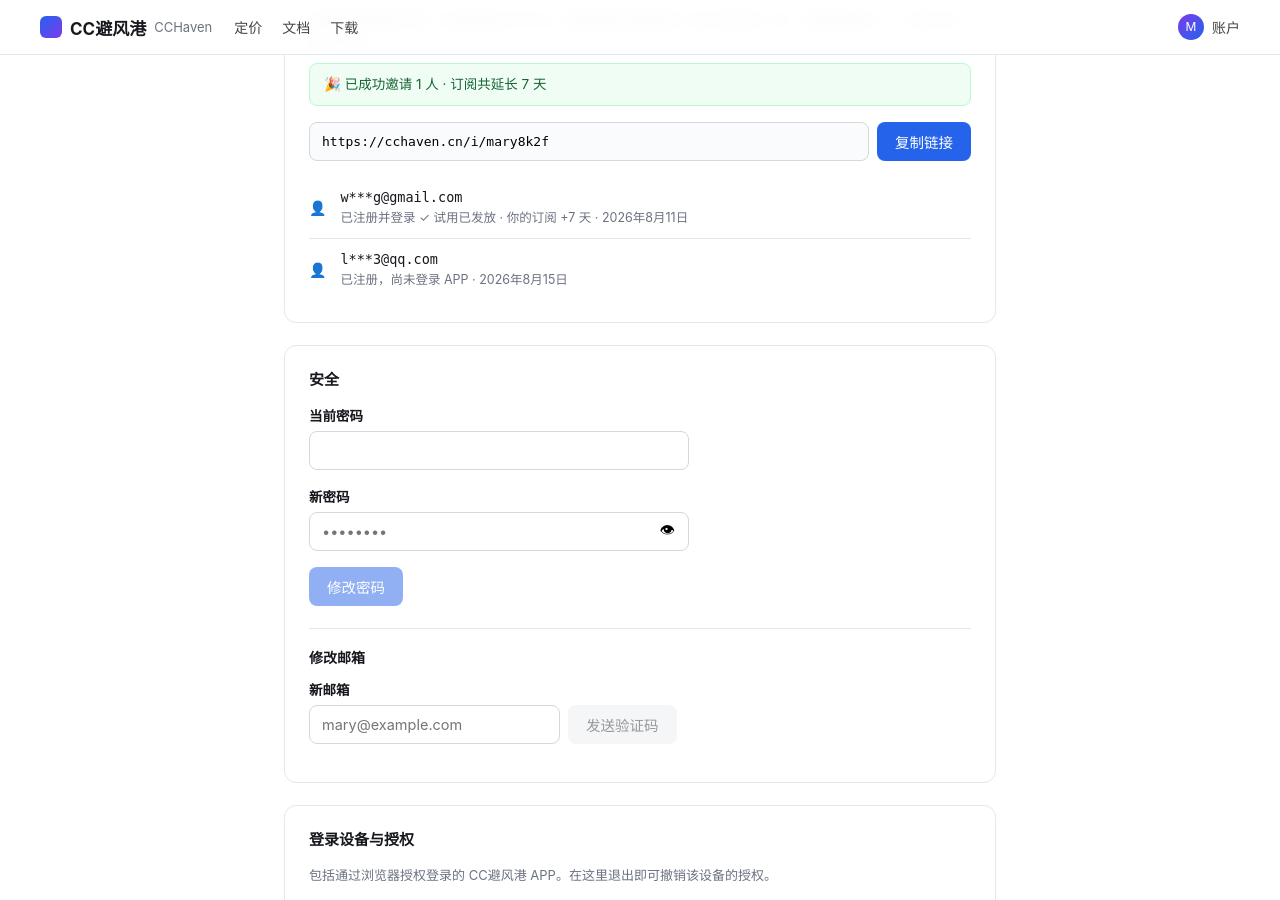
Test: 账户中心 /account › 已登录 › 安全 › 当前密码错误时展示服务端文案
(page scrolled)
Type "WrongPassword1" into the password field labelled "当前密码" at (499, 450), box [309, 431, 689, 470]
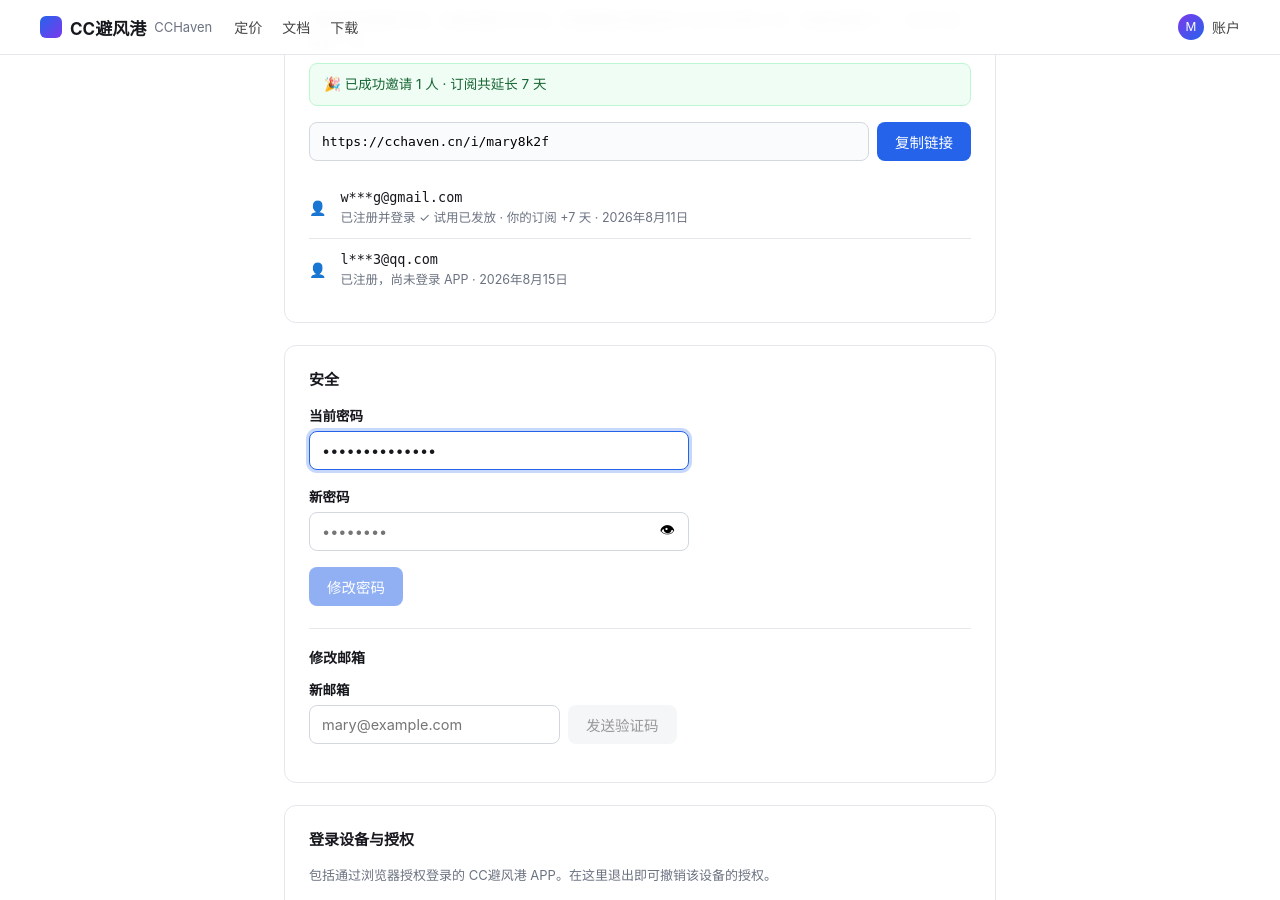
Type "Password456" into the password field labelled "新密码" at (499, 531), box [309, 512, 689, 551]
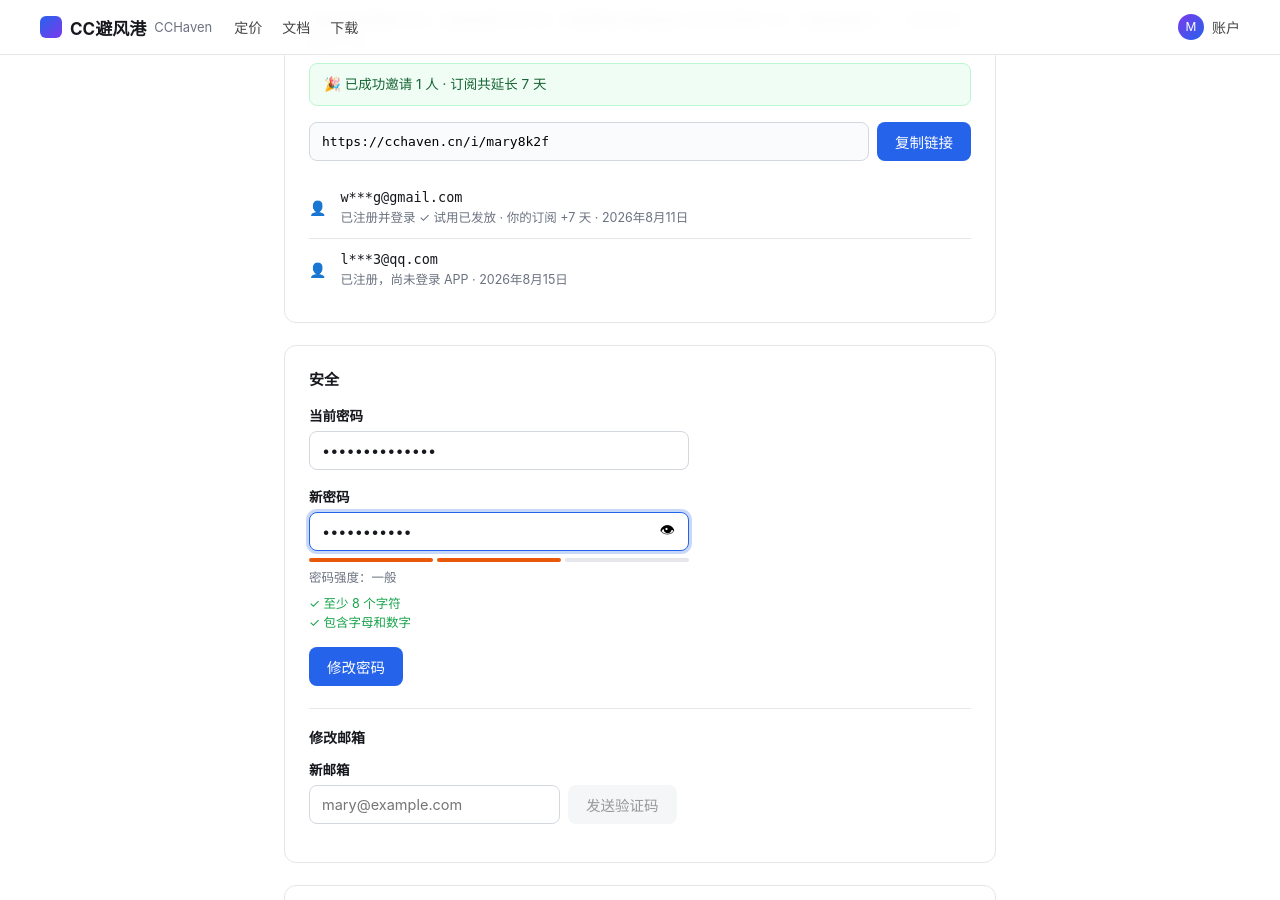
Click the button "修改密码" at (356, 666), box [309, 647, 403, 686]
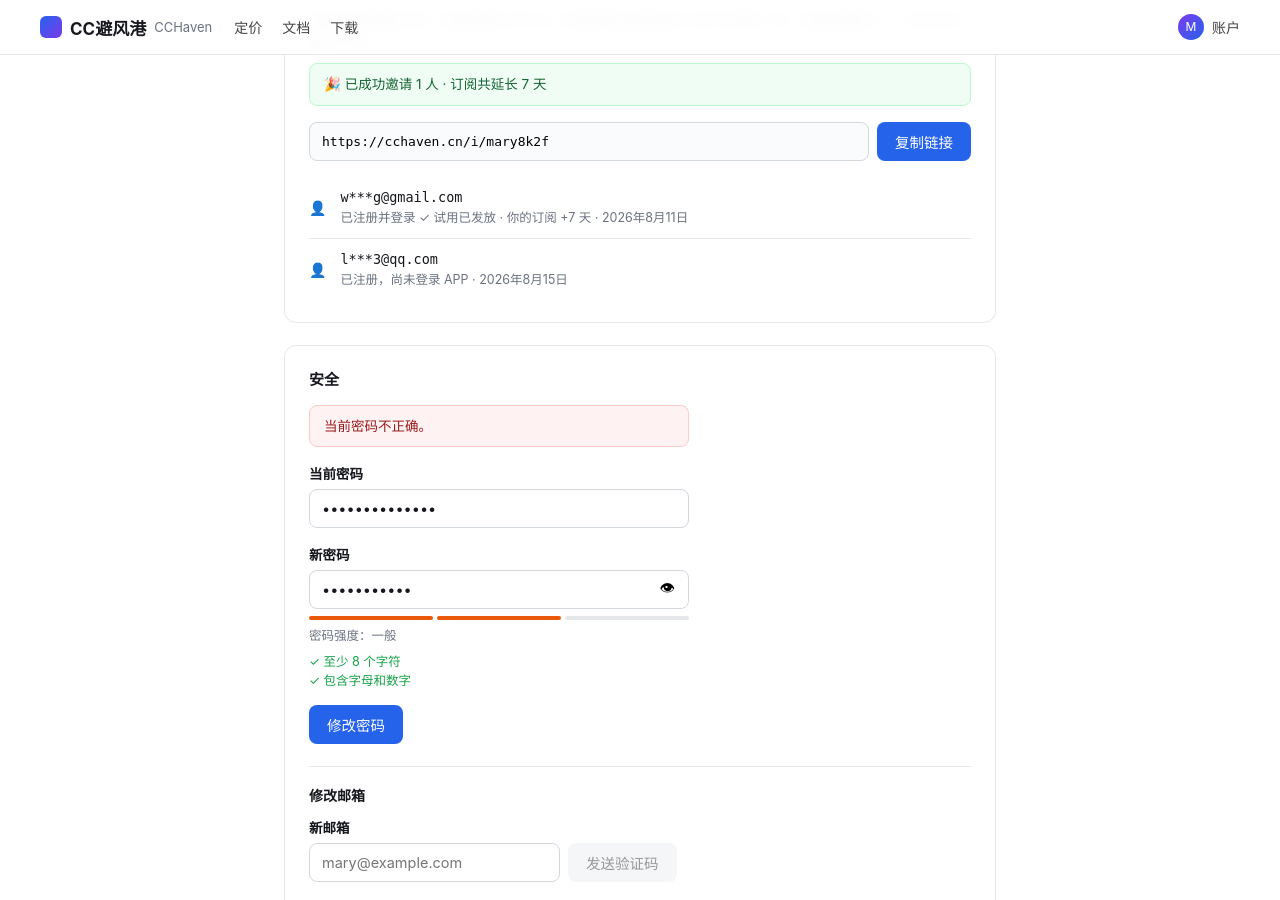
expect the text "当前密码不正确。" is shown: met, box [324, 416, 432, 436]
